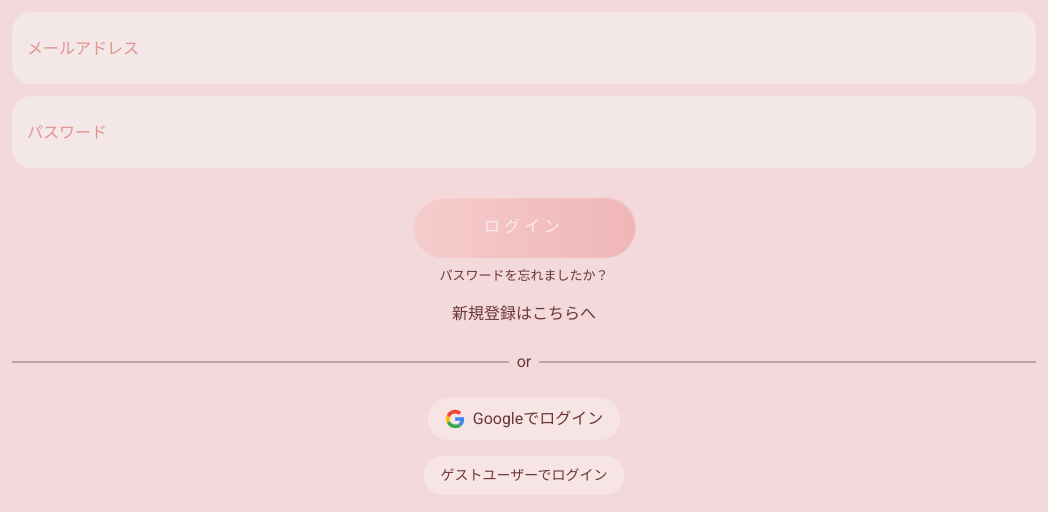
LoginForm › メールアドレスとパスワードを入力するとログインボタンが有効化される
Type "testuser@gmail.com" into the field with placeholder "メールアドレス". click: (524, 48)
box: [12,12,1036,84]
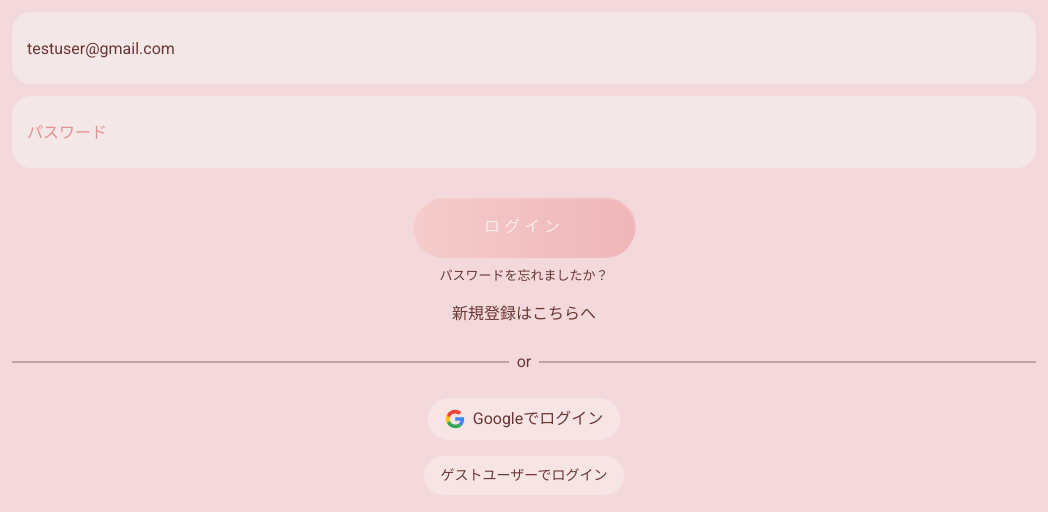
Type "secret123" into the password field with placeholder "パスワード". click: (524, 132)
box: [12,96,1036,168]
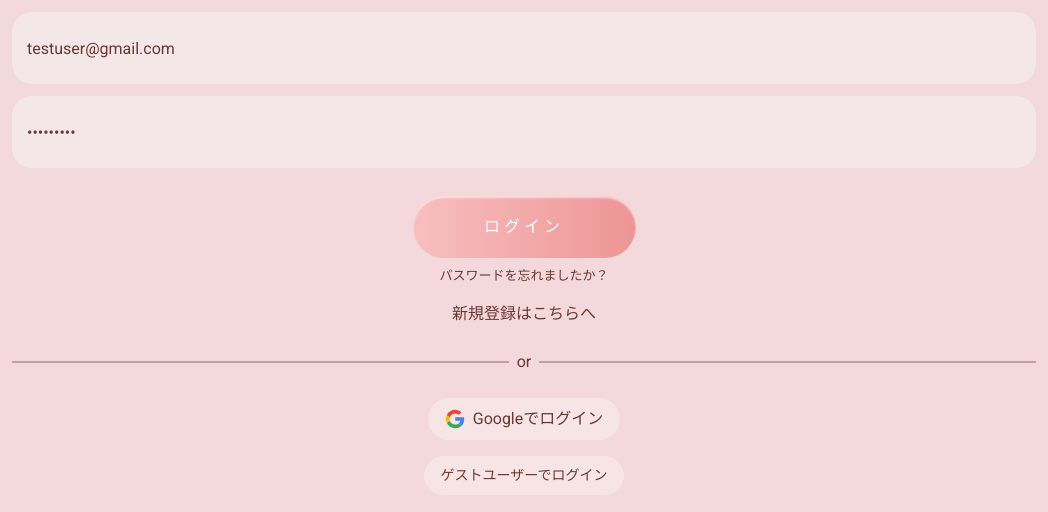
Expected: the button "ログイン" is enabled, [412,196,636,258]
